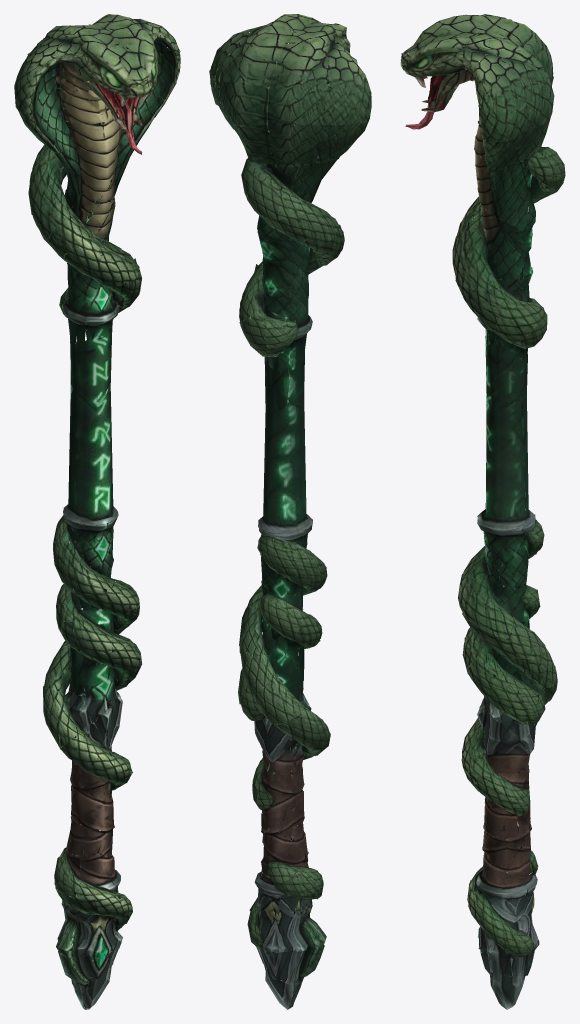
The model's file is arma_cajado_cobra_verde.glb.
3 views of the same model, side by side, from view 1: azimuth 30°, elevation 25°; view 2: azimuth 150°, elevation 25°; view 3: azimuth 270°, elevation 25° (orthographic). The views are drawn at different scales.
Visible parts, largest first — view 1: Mesh_0; view 2: Mesh_0; view 3: Mesh_0.
Boxes of the visible parts, left/top/right/bottom form: Mesh_0: left=14, top=14, right=180, bottom=1009; Mesh_0: left=209, top=14, right=371, bottom=1009; Mesh_0: left=400, top=14, right=565, bottom=1009.
Bounding box in the file's own units: 0.2974 × 1.75 × 0.2661.
Materials: 1 (1 with a texture image).
